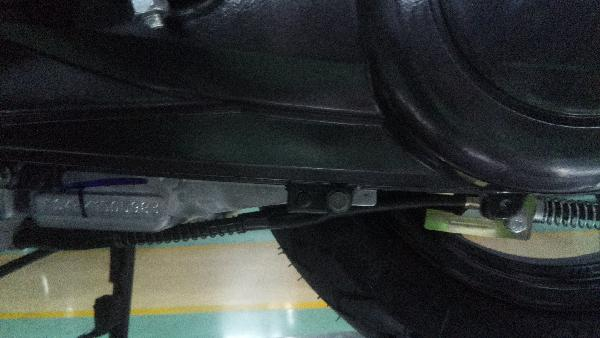box: (46, 199, 160, 216)
